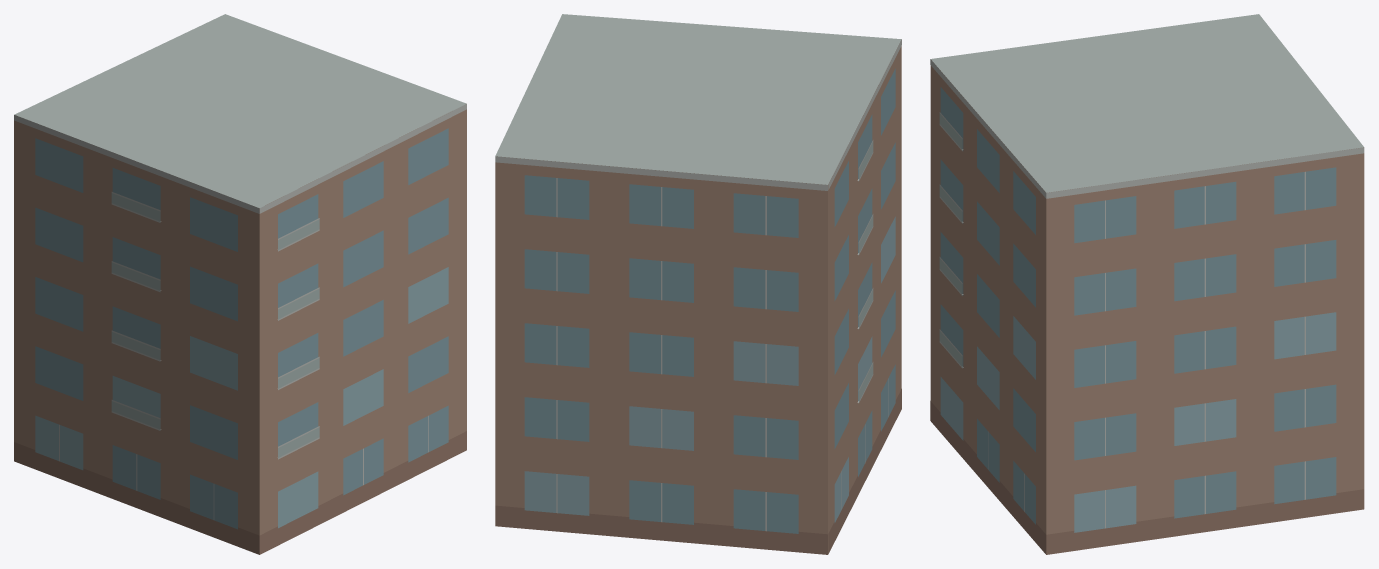
The model's file is survey-upis-32672445.glb.
3 views of the same model, side by side, from view 1: azimuth 30°, elevation 25°; view 2: azimuth 150°, elevation 25°; view 3: azimuth 270°, elevation 25° (orthographic). The views are drawn at different scales.
Parts seen in each view (by area): view 1: survey-upis-32672445.tmp; view 2: survey-upis-32672445.tmp; view 3: survey-upis-32672445.tmp.
Part boxes in pixels (x1,y1,x2,y2): survey-upis-32672445.tmp: [14, 14, 466, 554]; survey-upis-32672445.tmp: [495, 14, 901, 554]; survey-upis-32672445.tmp: [930, 14, 1364, 554].
Size of the model in its own units: 15.58 by 14.7 by 15.97.
